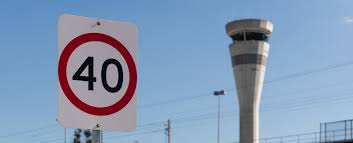sp40: (60, 36, 134, 113)
